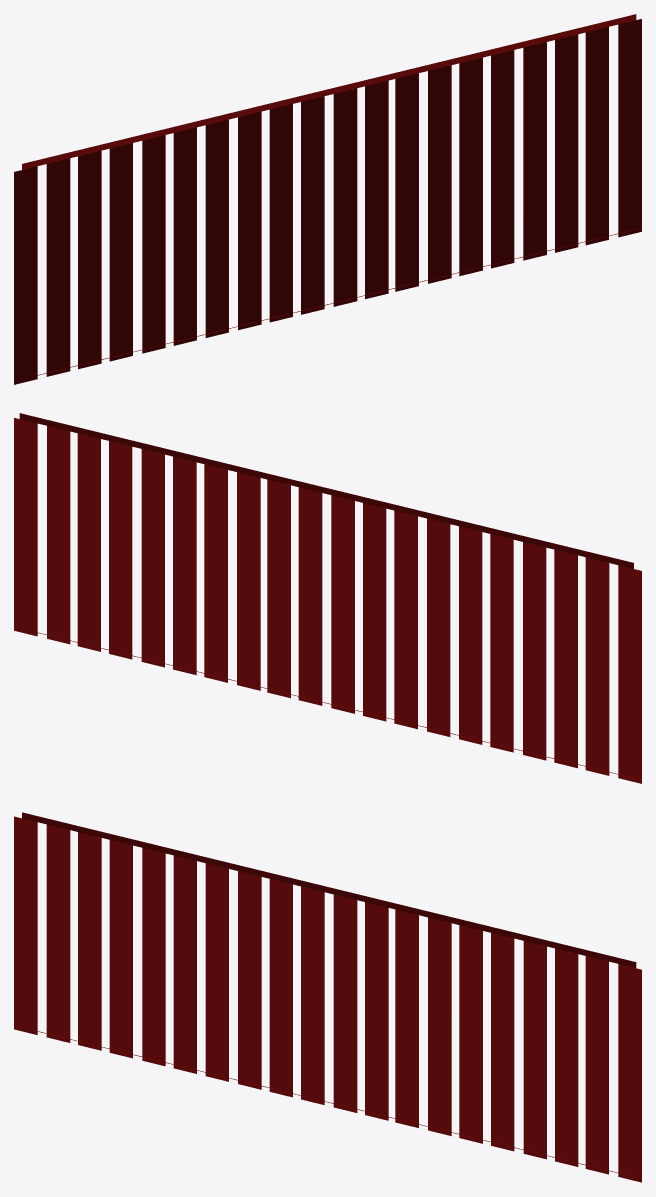
The model's file is Badandillas.obj.
The picture shows the model from 3 angles, top to bottom: view 1: azimuth 30°, elevation 25°; view 2: azimuth 150°, elevation 25°; view 3: azimuth 330°, elevation 25°; orthographic projection.
Visible parts, largest first — view 1: Blind_2, Rod_4, Cylinder_3; view 2: Blind_2, Rod_4, Cylinder_3; view 3: Blind_2, Rod_4, Cylinder_3.
Boxes of the visible parts, box(x1,y1,x2,y2) form: Blind_2: box(14, 19, 641, 384); Rod_4: box(22, 14, 636, 169); Cylinder_3: box(37, 229, 636, 375); Blind_2: box(14, 418, 641, 783); Rod_4: box(19, 413, 633, 568); Cylinder_3: box(37, 632, 637, 779); Blind_2: box(14, 816, 641, 1182); Rod_4: box(22, 812, 636, 967); Cylinder_3: box(38, 1031, 636, 1177).
Bounding box in the file's own units: 720 × 240 × 0.1.
